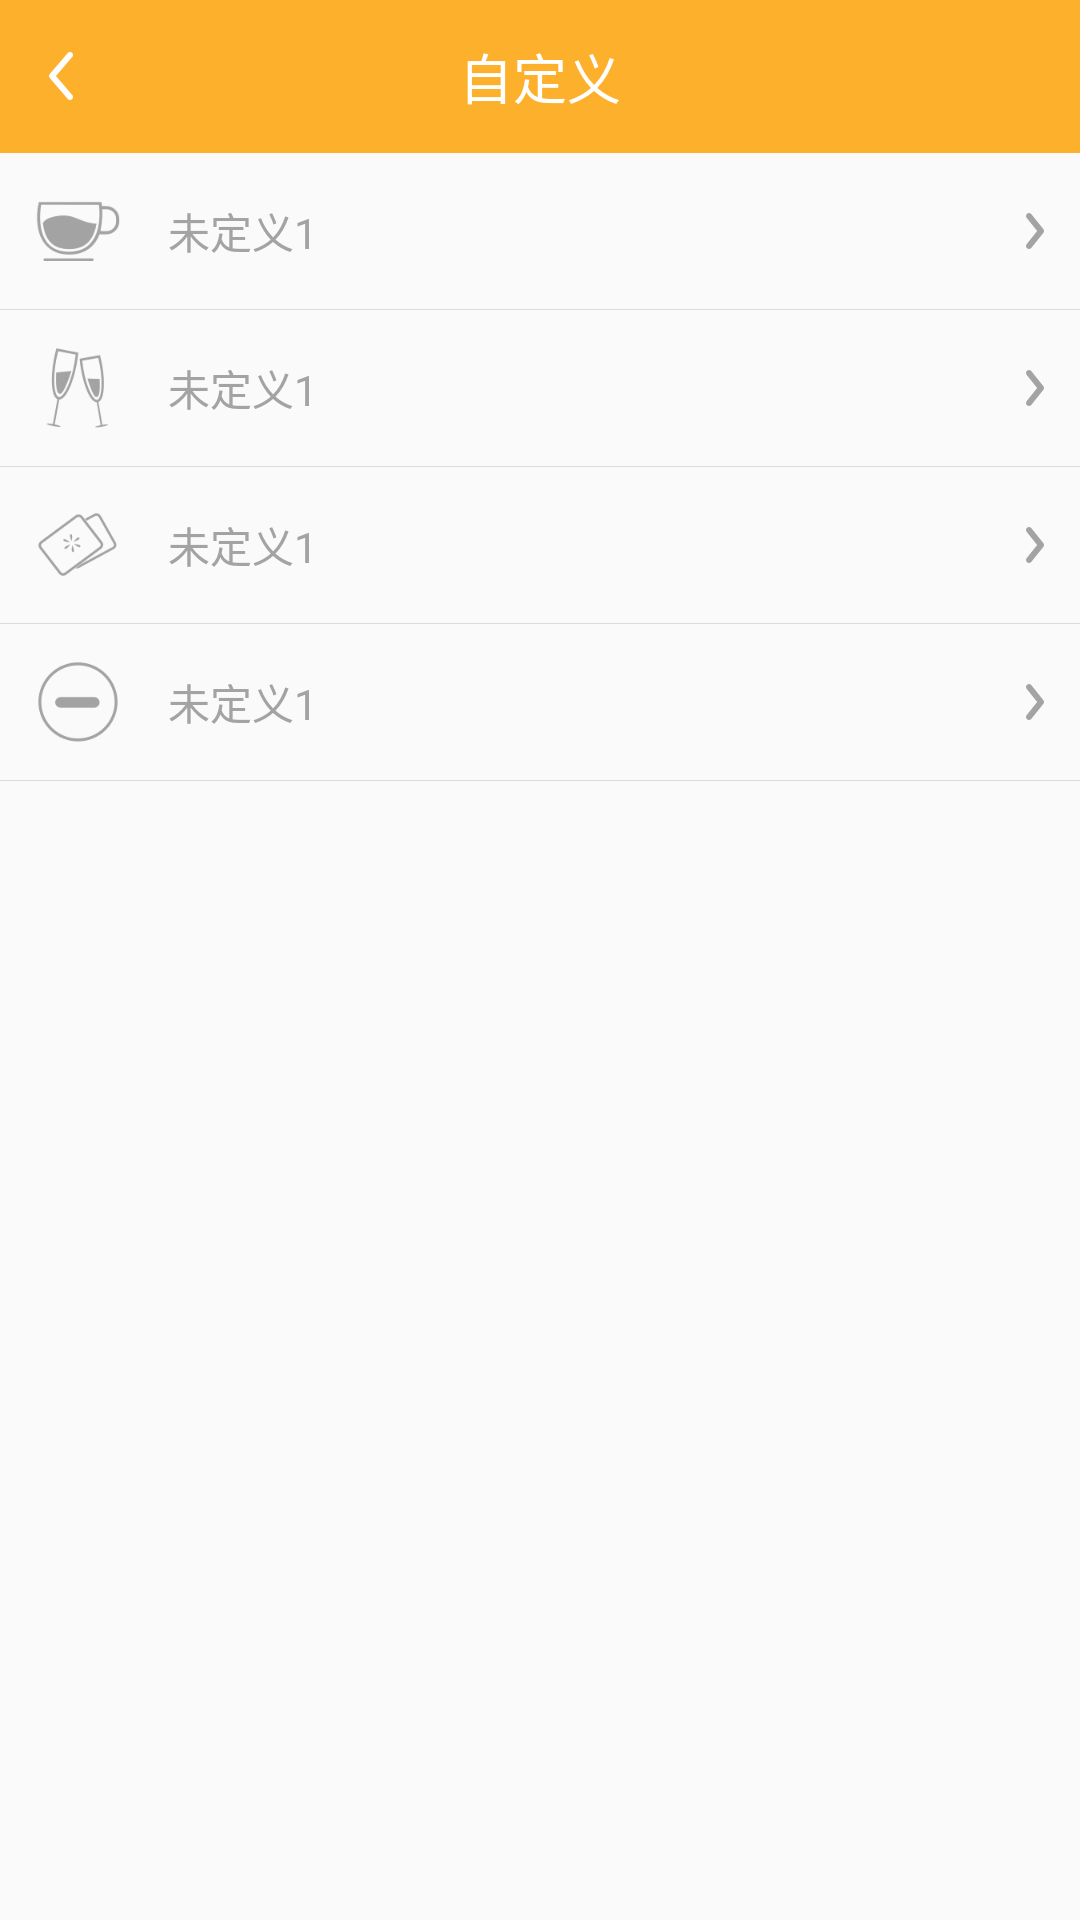

Where icons sit on this 1080px x 1920px app screen, as BBox(x1, y1, x2, y2):
custom return: BBox(49, 52, 73, 100)
